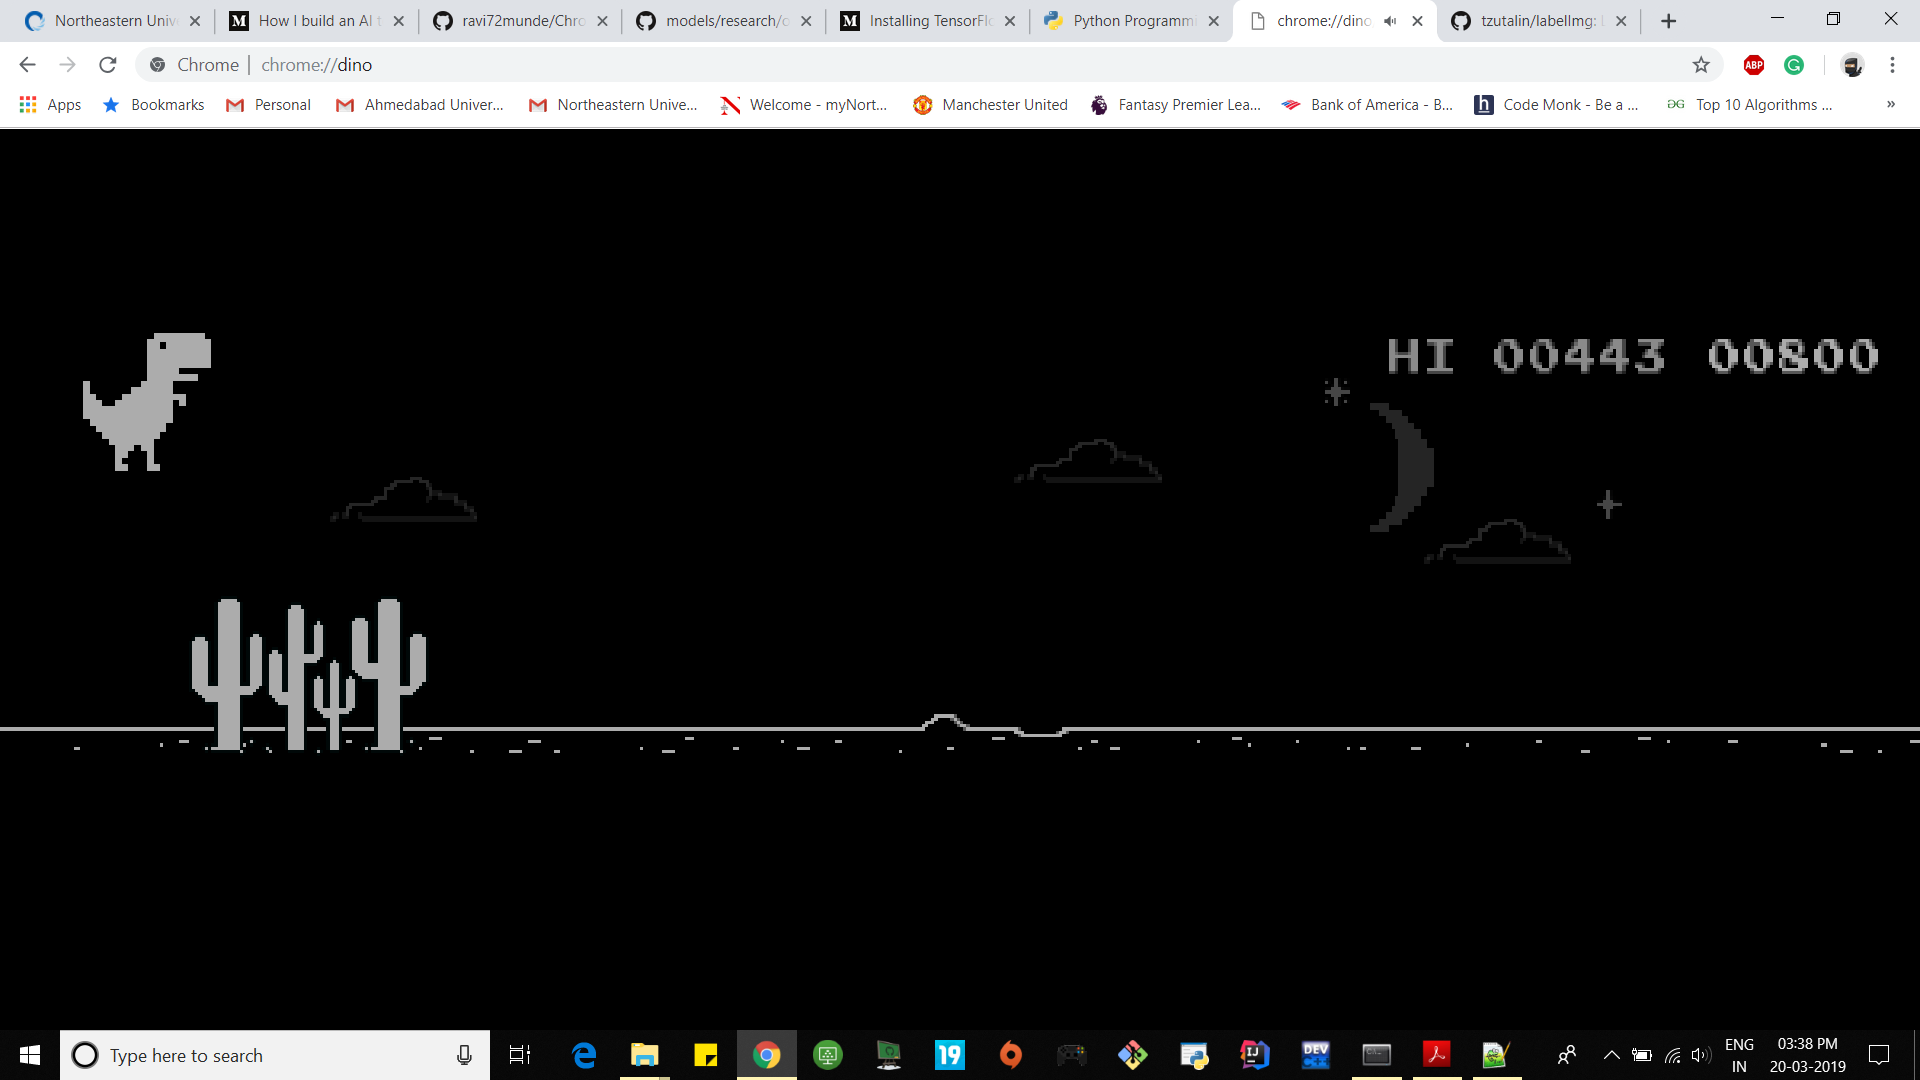cactus-4: (190, 595, 426, 756)
dino: (80, 327, 214, 477)
